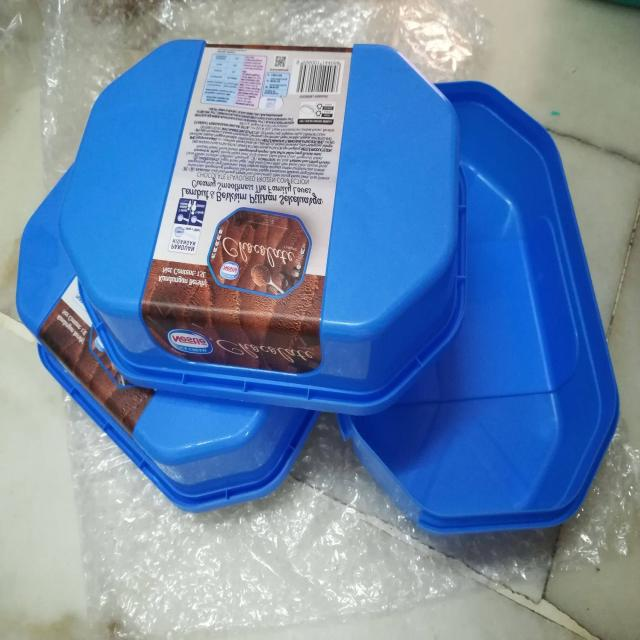plastic: (14, 38, 618, 541)
